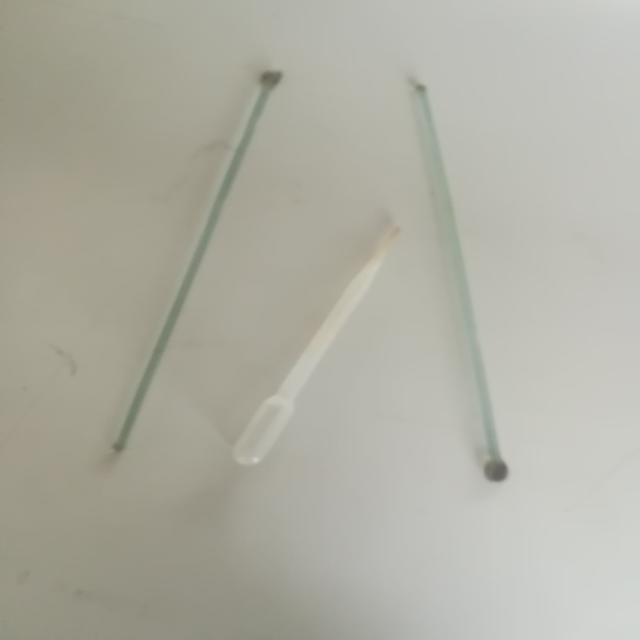Glass_Rod: (48, 63, 317, 470), (400, 68, 556, 520)
Pipette: (232, 205, 411, 500)
